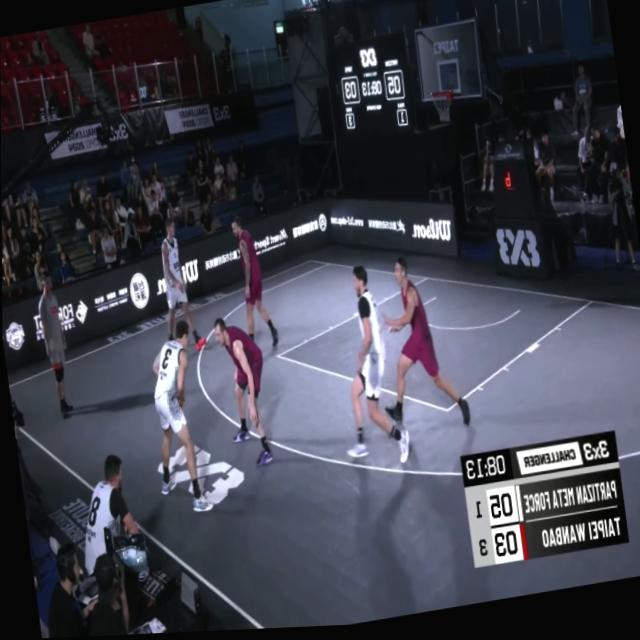ball: (172, 387, 186, 412)
hoop: (429, 86, 458, 130)
player: (322, 260, 416, 485), (365, 247, 474, 439), (140, 328, 215, 519), (210, 314, 277, 480), (151, 215, 204, 358), (231, 211, 278, 353)
